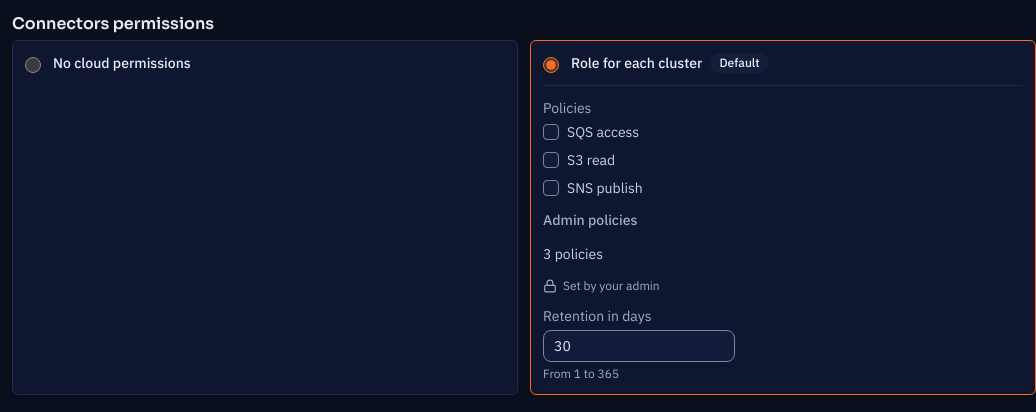
SectionCards › shows the schema error of an editable parameter at its field
The image size is (1036, 412).
Replace the text in the number field labelled "Retention in days" with "500" at {"x": 639, "y": 346}, box [543,330,735,362]
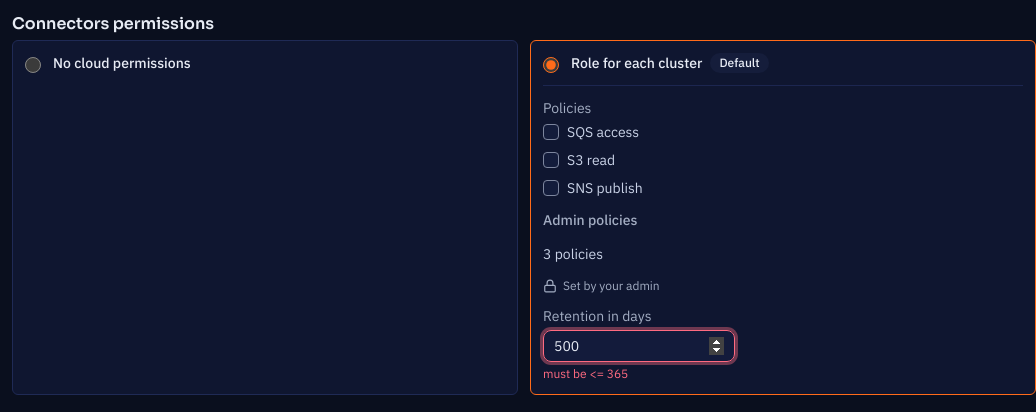
Expected: the text "must be <= 365" is shown, [543,366,628,381]
